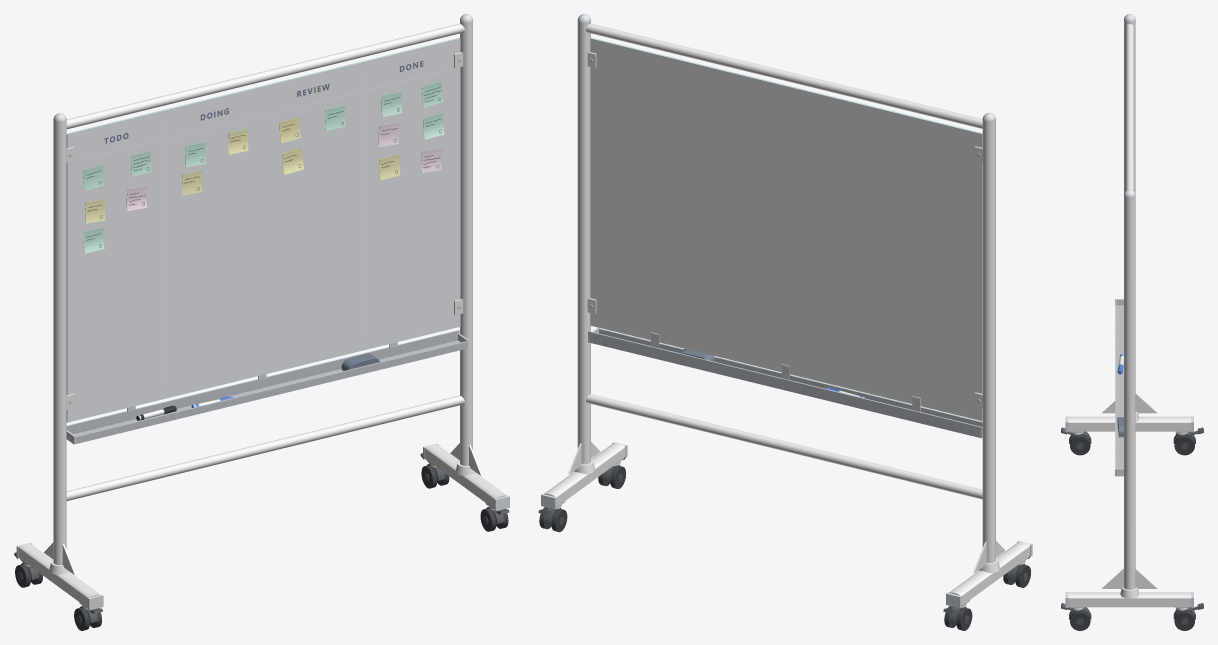
File: Office_Whiteboard_Scrum.glb
3 views of the same model, side by side, from view 1: azimuth 30°, elevation 25°; view 2: azimuth 150°, elevation 25°; view 3: azimuth 270°, elevation 25° (orthographic). The views are drawn at different scales.
Visible parts, largest first — view 1: Glass_WritingSurface, Tray_Channel_Extrusion, Upright_L, Upright_R, CrossBar_Lower, CrossBar_Upper, Glass_Edge_Top, Foot_TopRound_L, Foot_TopRound_R, Foot_L, Foot_R; view 2: Glass_WritingSurface, Tray_Channel_Extrusion, Upright_L, Upright_R, CrossBar_Lower, CrossBar_Upper, Glass_Edge_Top, Foot_TopRound_R, Foot_TopRound_L, Foot_L, Foot_R; view 3: Upright_R, CrossBar_Upper, Tray_Channel_Extrusion, Foot_R, Foot_L, Foot_TopRound_R, Foot_TopRound_L, Upright_L, Caster_LB_Wheel_B, Caster_LF_Wheel_B, Caster_RB_Wheel_B, Caster_RF_Wheel_B (+3 smaller).
Part boxes in pixels (left/top/right/bottom): Glass_WritingSurface: left=67, top=39, right=460, bottom=422; Tray_Channel_Extrusion: left=66, top=330, right=467, bottom=444; Upright_L: left=53, top=120, right=66, bottom=565; Upright_R: left=460, top=21, right=472, bottom=465; CrossBar_Lower: left=66, top=395, right=464, bottom=500; CrossBar_Upper: left=66, top=23, right=464, bottom=129; Glass_Edge_Top: left=66, top=37, right=460, bottom=134; Foot_TopRound_L: left=19, top=543, right=100, bottom=598; Foot_TopRound_R: left=425, top=444, right=506, bottom=499; Foot_L: left=18, top=548, right=87, bottom=607; Foot_R: left=425, top=449, right=494, bottom=508; Glass_WritingSurface: left=590, top=39, right=981, bottom=420; Tray_Channel_Extrusion: left=588, top=328, right=982, bottom=437; Upright_L: left=982, top=120, right=995, bottom=563; Upright_R: left=577, top=21, right=590, bottom=464; CrossBar_Lower: left=586, top=394, right=982, bottom=499; CrossBar_Upper: left=586, top=23, right=982, bottom=128; Glass_Edge_Top: left=590, top=37, right=982, bottom=134; Foot_TopRound_R: left=544, top=443, right=625, bottom=497; Foot_TopRound_L: left=949, top=541, right=1030, bottom=595; Foot_L: left=961, top=546, right=1030, bottom=605; Foot_R: left=556, top=447, right=625, bottom=506; Upright_R: left=1124, top=196, right=1135, bottom=589; CrossBar_Upper: left=1125, top=24, right=1133, bottom=190; Tray_Channel_Extrusion: left=1115, top=300, right=1123, bottom=476; Foot_R: left=1068, top=598, right=1191, bottom=607; Foot_L: left=1068, top=423, right=1191, bottom=431; Foot_TopRound_R: left=1068, top=592, right=1191, bottom=598; Foot_TopRound_L: left=1068, top=416, right=1191, bottom=422; Upright_L: left=1124, top=21, right=1135, bottom=193; Caster_LB_Wheel_B: left=1174, top=435, right=1194, bottom=455; Caster_LF_Wheel_B: left=1070, top=435, right=1090, bottom=455; Caster_RB_Wheel_B: left=1174, top=610, right=1194, bottom=630; Caster_RF_Wheel_B: left=1070, top=610, right=1090, bottom=630.
Bounding box in the file's own units: 1.62 × 1.8 × 0.5324.
27 materials, 11 textured.
